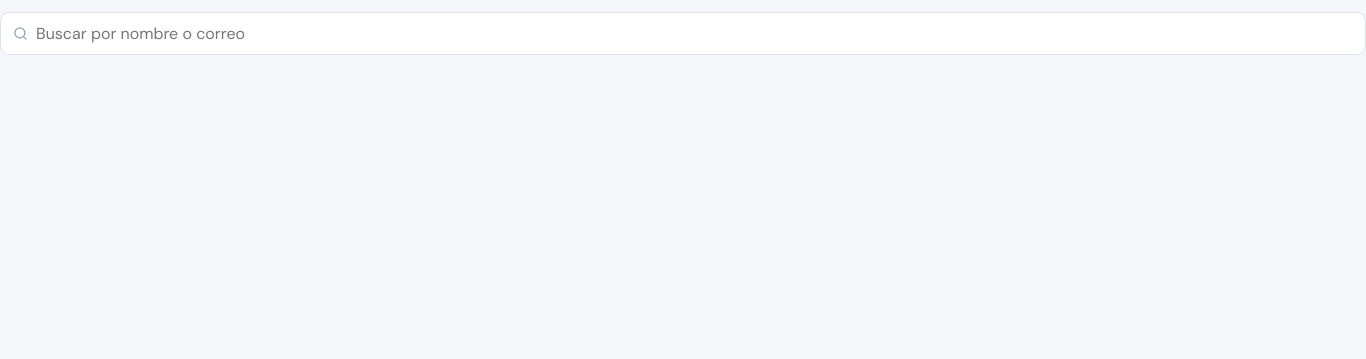
Test: ActorPicker › con muchos usuarios muestra solo unos pocos y avisa cuántos hay
The image size is (1366, 359).
Click the dropdown named "Actor" at coordinates (694, 34), box [36,13,1353,54]
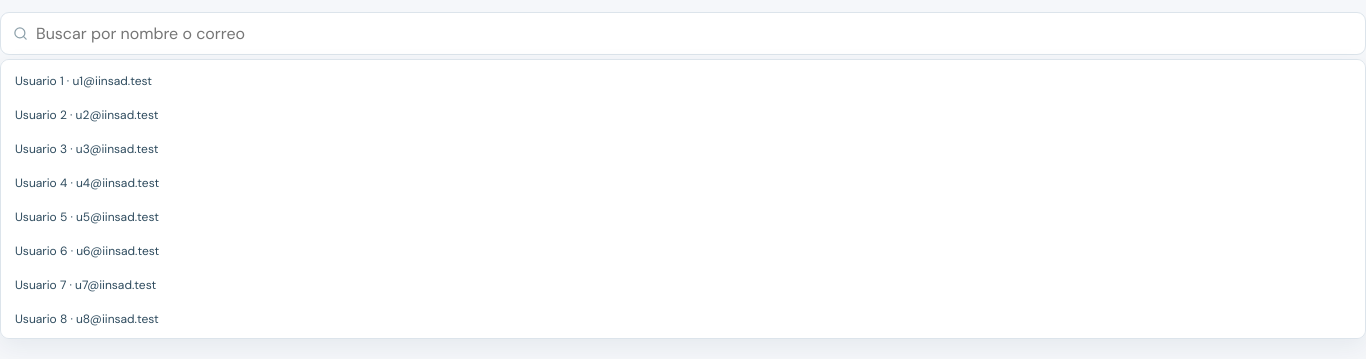
Now the number of options is 8
